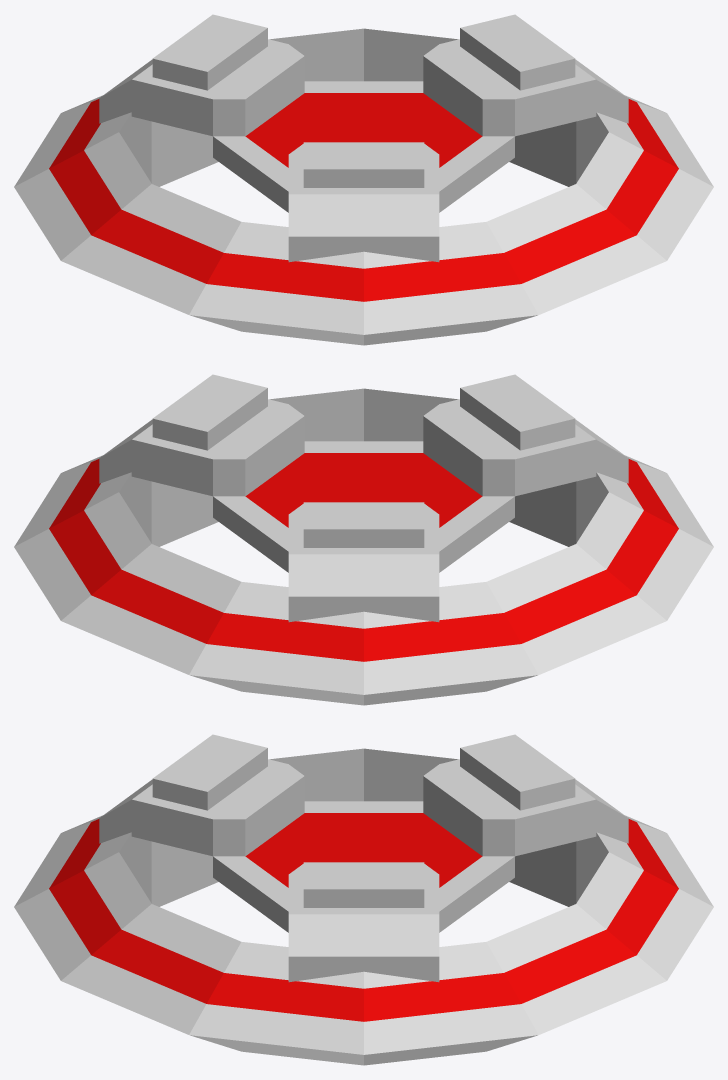
Rendered from portal.fbx.
The picture shows the model from 3 angles, top to bottom: view 1: azimuth 30°, elevation 25°; view 2: azimuth 150°, elevation 25°; view 3: azimuth 270°, elevation 25°; orthographic projection.
Parts seen in each view (by area): view 1: Torus.001; view 2: Torus.001; view 3: Torus.001.
Part boxes in pixels (left/top/right/bottom): Torus.001: left=14, top=14, right=713, bottom=345; Torus.001: left=14, top=374, right=713, bottom=705; Torus.001: left=14, top=734, right=713, bottom=1065.
Bounding box in the file's own units: 464 × 118 × 464.
